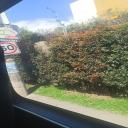speed_limit_60: (0, 40, 22, 56)
